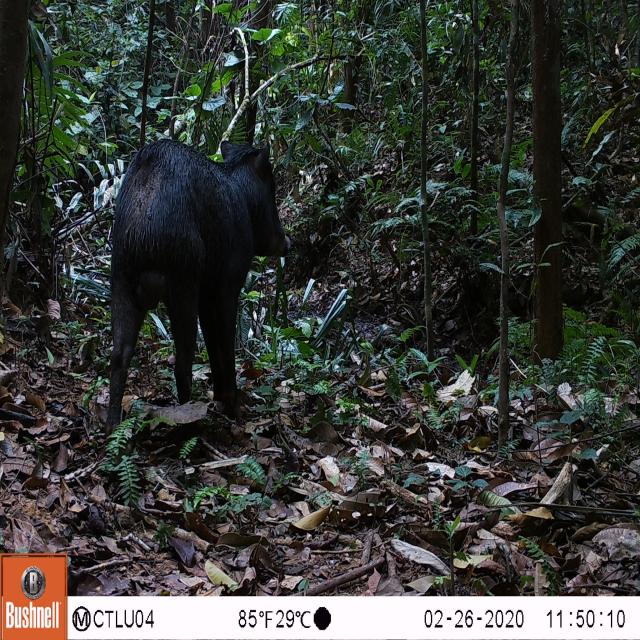White-lipped Peccary: (87, 134, 294, 436)
